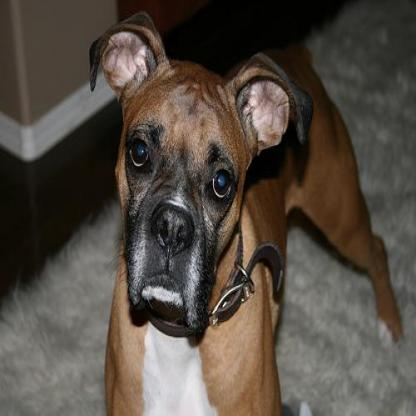boxer: (87, 10, 405, 413)
